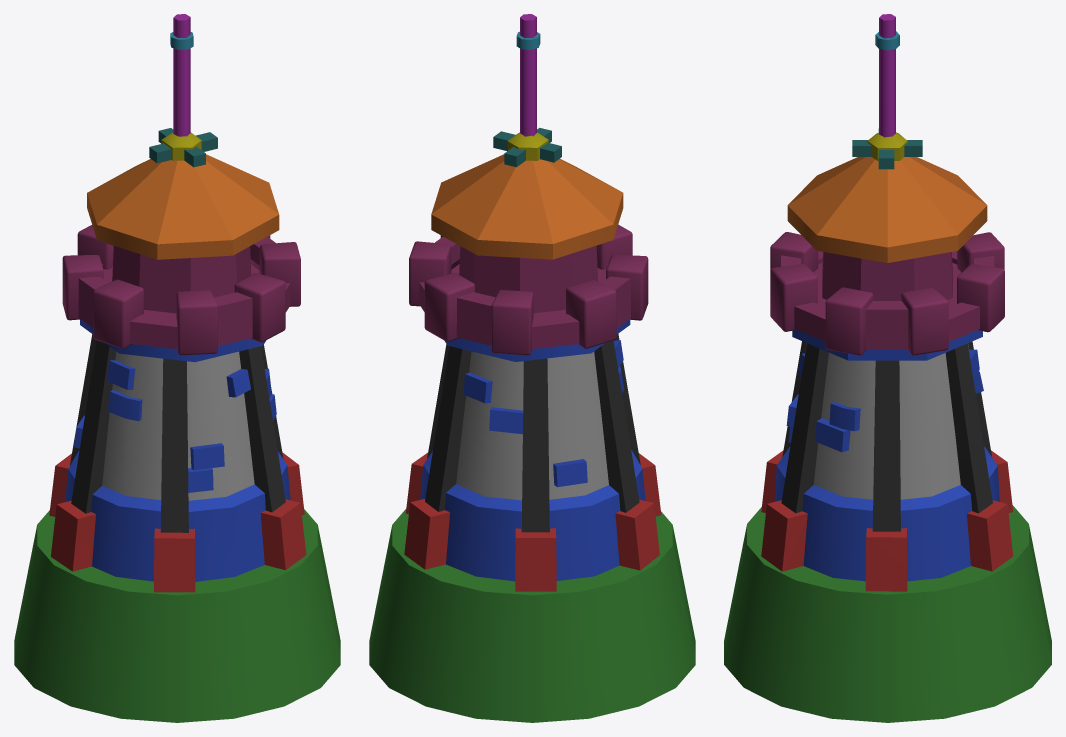
File: Tower_mm.fbx
The picture shows the model from 3 angles, left to right: view 1: azimuth 30°, elevation 25°; view 2: azimuth 150°, elevation 25°; view 3: azimuth 270°, elevation 25°; orthographic projection.
Visible parts, largest first — view 1: Tower; view 2: Tower; view 3: Tower.
Part boxes in pixels (box(x1,y1,x2,y2)): Tower: box(14, 14, 340, 722); Tower: box(369, 14, 695, 722); Tower: box(724, 14, 1051, 722).
Size of the model in its own units: 519 by 1096 by 511.
